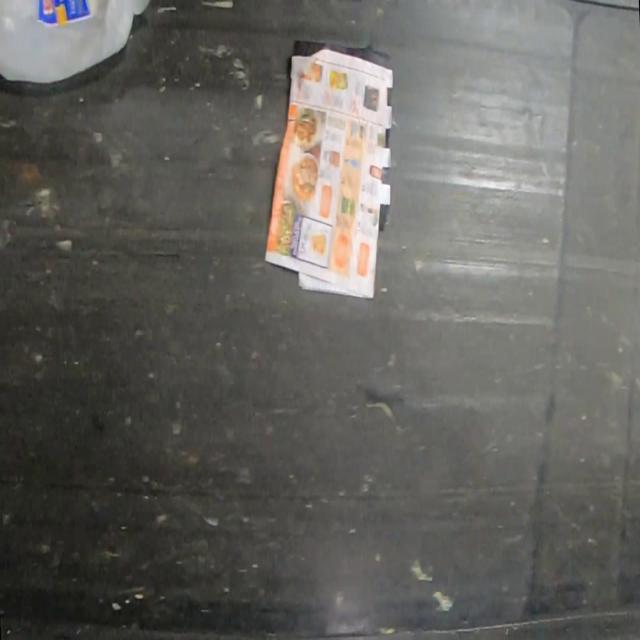rigid_plastic: (0, 0, 149, 84)
